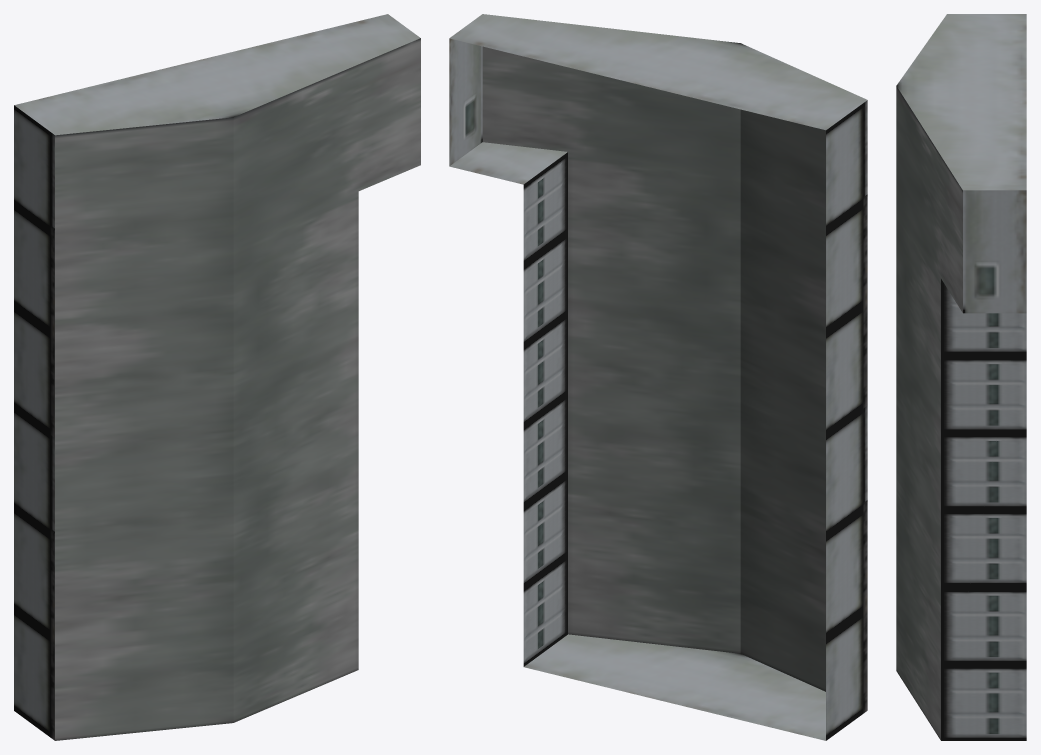
Rendered from urbanshedg01a_wtf.obj.
The picture shows the model from 3 angles, left to right: view 1: azimuth 30°, elevation 25°; view 2: azimuth 150°, elevation 25°; view 3: azimuth 270°, elevation 25°; orthographic projection. The views are drawn at different scales.
Visible parts, largest first — view 1: group2; view 2: group2; view 3: group2.
Boxes of the visible parts, box(x1,y1,x2,y2) form: group2: box(14, 14, 420, 740); group2: box(449, 14, 867, 740); group2: box(896, 14, 1026, 740).
Bounding box in the file's own units: 426 × 660 × 133.
